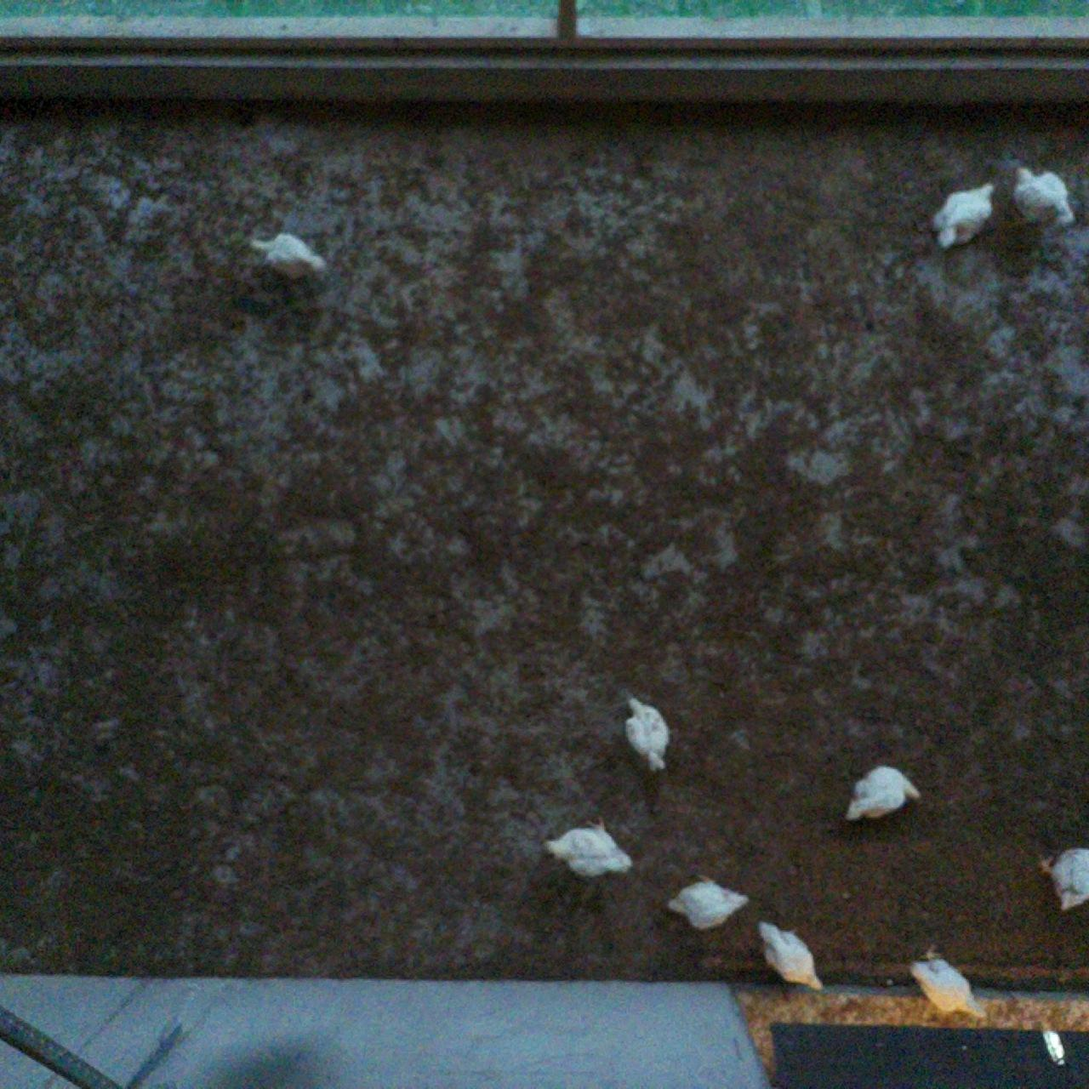chicken: (905, 939, 993, 1025), (541, 814, 636, 883), (663, 868, 753, 934), (754, 918, 829, 995), (840, 759, 923, 826), (1008, 161, 1080, 234), (926, 178, 1000, 249), (244, 228, 327, 286), (619, 692, 674, 776), (1033, 843, 1089, 914)
